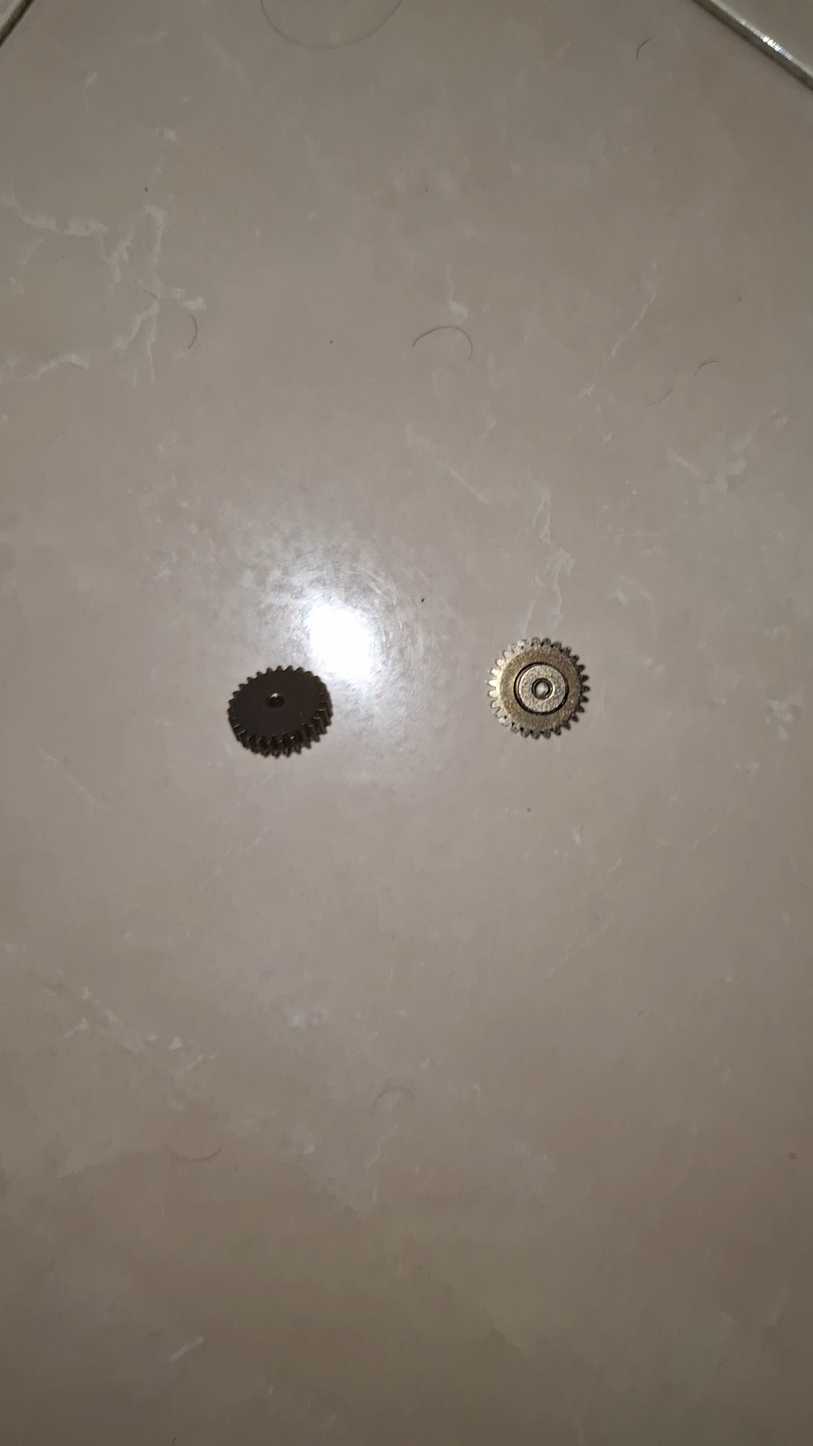spur gear: (489, 638, 588, 736), (228, 667, 331, 756)
